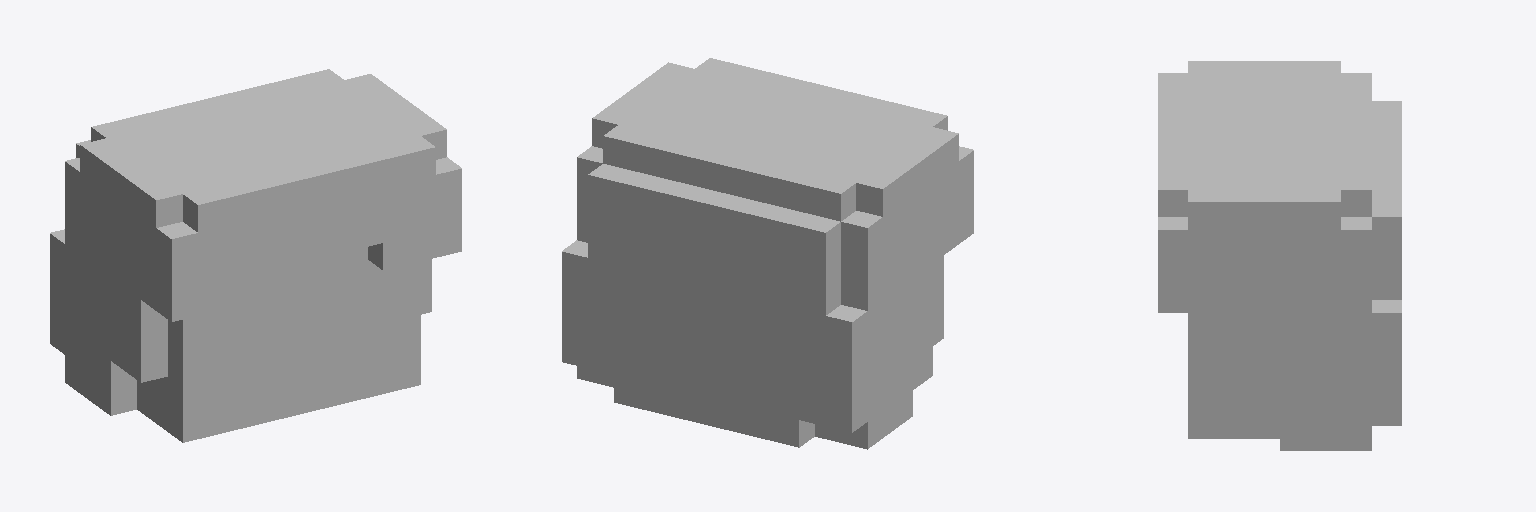
Rendered from smithhead.obj.
3 views of the same model, side by side, from view 1: azimuth 30°, elevation 25°; view 2: azimuth 150°, elevation 25°; view 3: azimuth 270°, elevation 25° (orthographic).
Visible parts, largest first — view 1: SamAsBlacksmith; view 2: SamAsBlacksmith; view 3: SamAsBlacksmith.
Boxes of the visible parts, box(x1,y1,x2,y2) form: SamAsBlacksmith: box(50, 69, 461, 442); SamAsBlacksmith: box(562, 58, 973, 449); SamAsBlacksmith: box(1158, 61, 1401, 450).
Bounding box in the file's own units: 11 × 9 × 8.